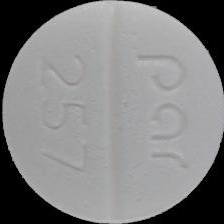53808-1032: (0, 0, 224, 224)
